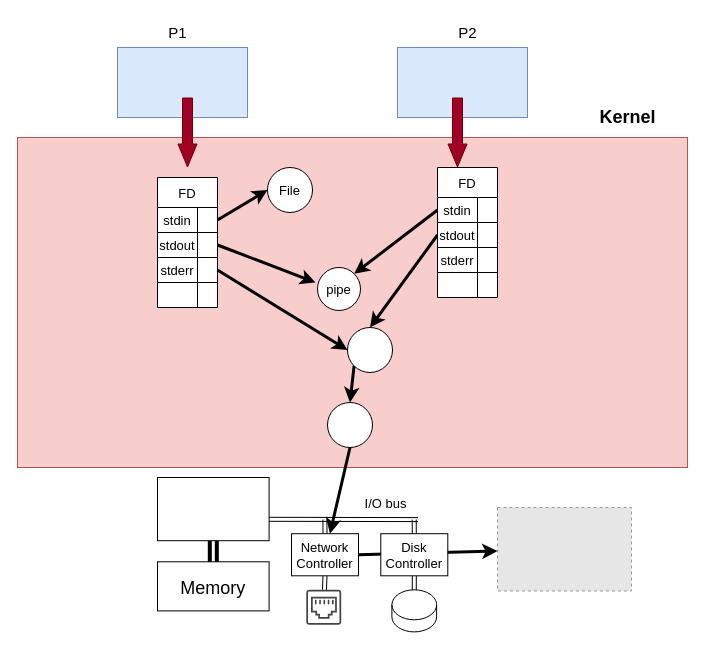
The diagram is 705 pixels wide and 659 high, and some of its shapes have lost their labels. Grey dashed boxes stand in for pictures. The box of each missing label's shape, as (x1, y1, x2, y2) in pixels:
CPU: (156, 476, 269, 541)
Socket: (326, 402, 372, 448)
TTY: (346, 326, 392, 372)
